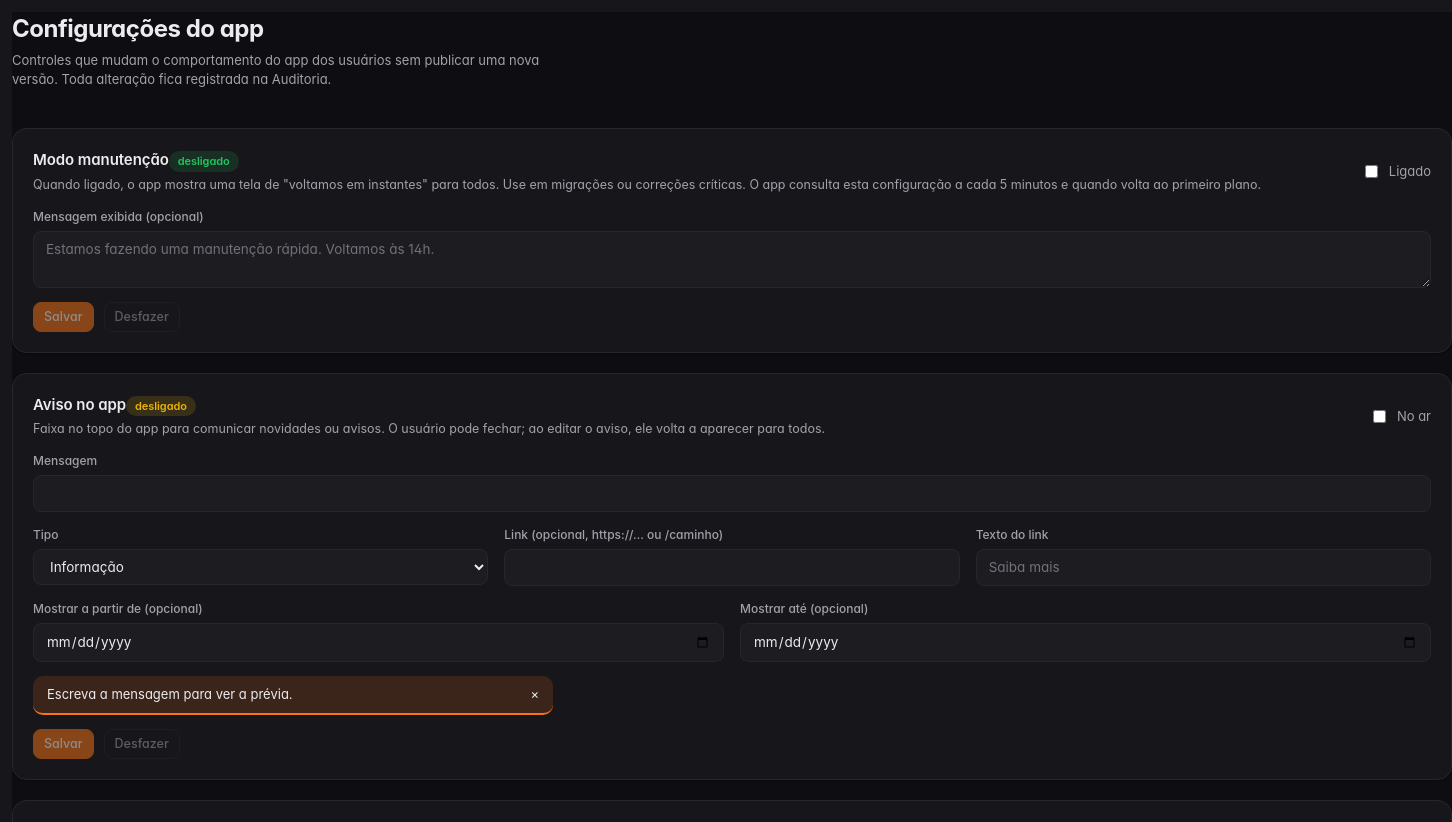
AppSettings › manutenção: Salvar só habilita com alteração e confirma antes de ligar
Expected: the heading "Modo manutenção desligado" is shown, x1=33 y1=150 x2=239 y2=172
Expected: the button "Salvar" below "Mensagem exibida (opcional)" is disabled, x1=33 y1=302 x2=94 y2=332
Click the checkbox labelled "Ligado". click: {"x": 1371, "y": 172}
box: x1=1365 y1=165 x2=1378 y2=178
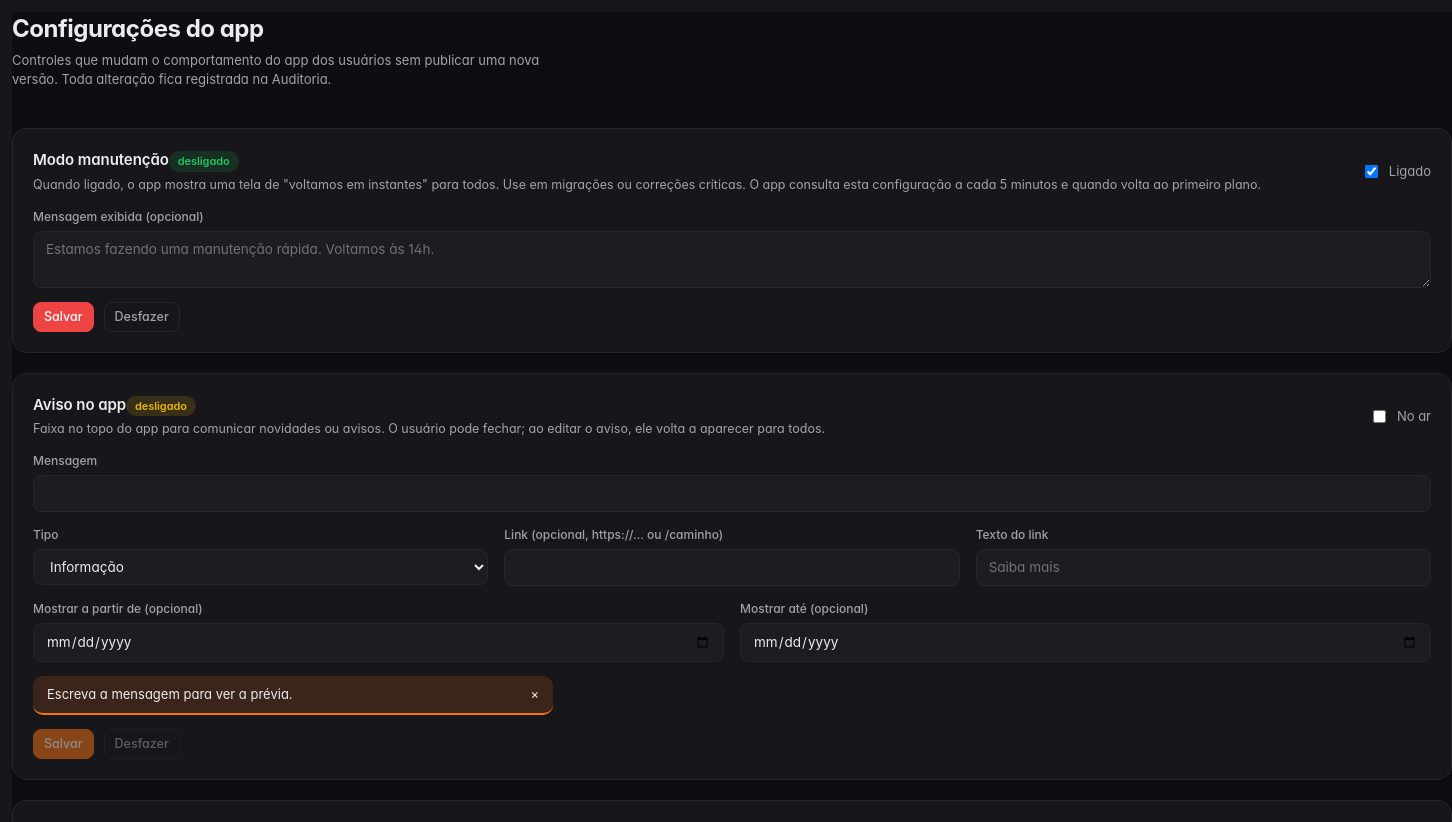
Type " Voltamos às 14h " into the text box labelled "Mensagem exibida (opcional)". click: {"x": 732, "y": 259}
box: x1=33 y1=230 x2=1431 y2=288
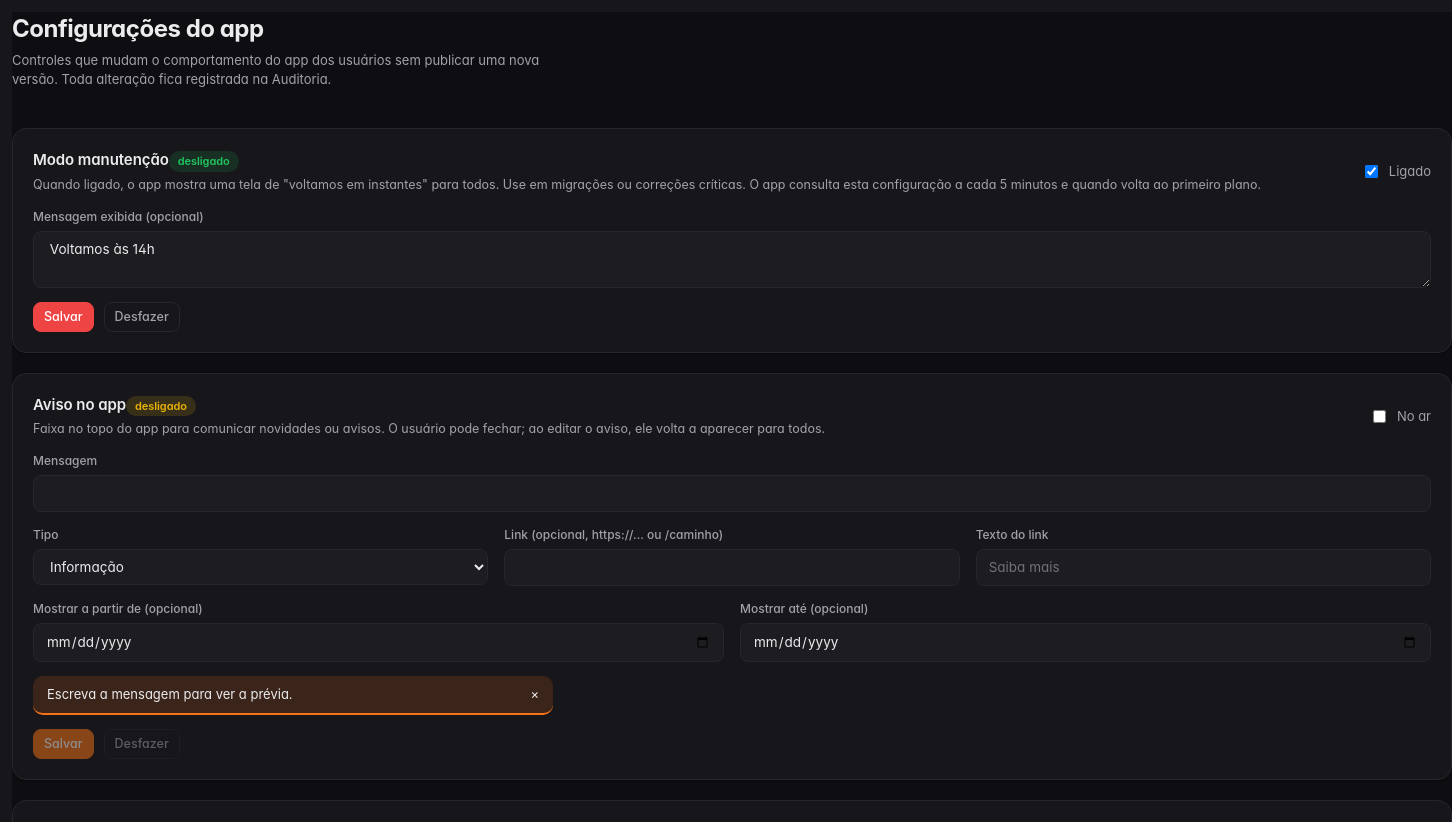
Click the button "Salvar" below "Mensagem exibida (opcional)". click: {"x": 63, "y": 317}
box: x1=33 y1=302 x2=94 y2=332
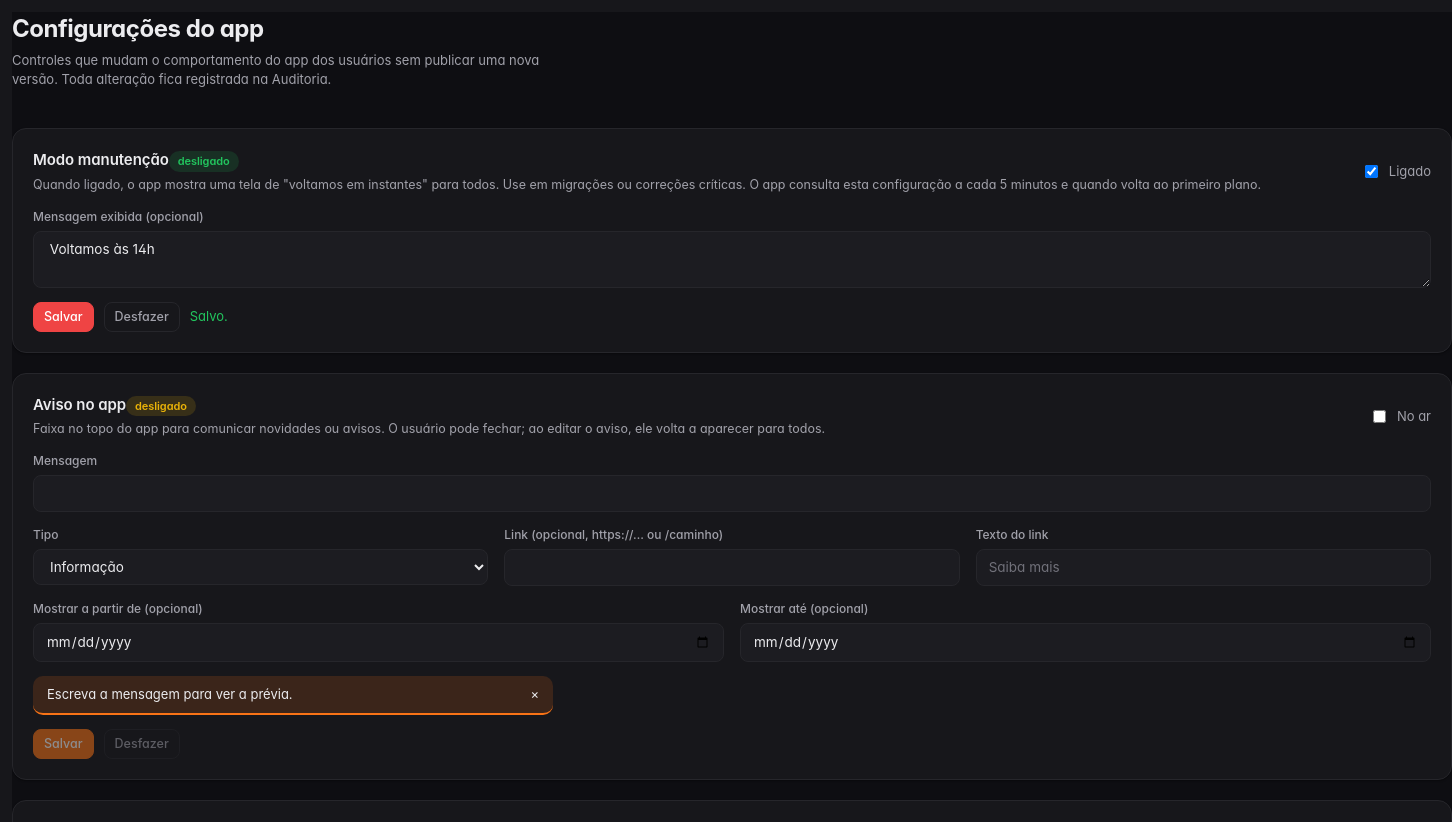
Result: the text "Salvo." is shown at x1=190 y1=307 x2=228 y2=326
